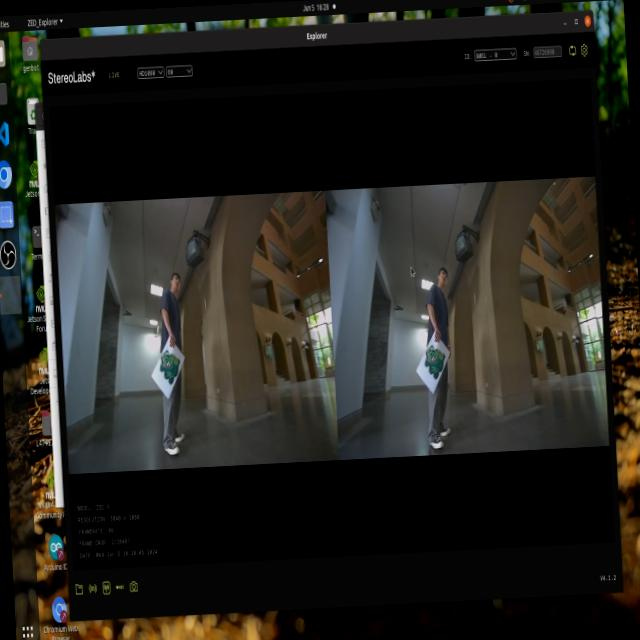green: (420, 339, 450, 382), (160, 348, 190, 388)
